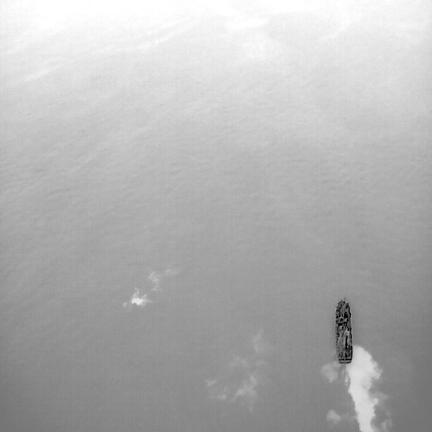flukeprints: (129, 289, 152, 306)
